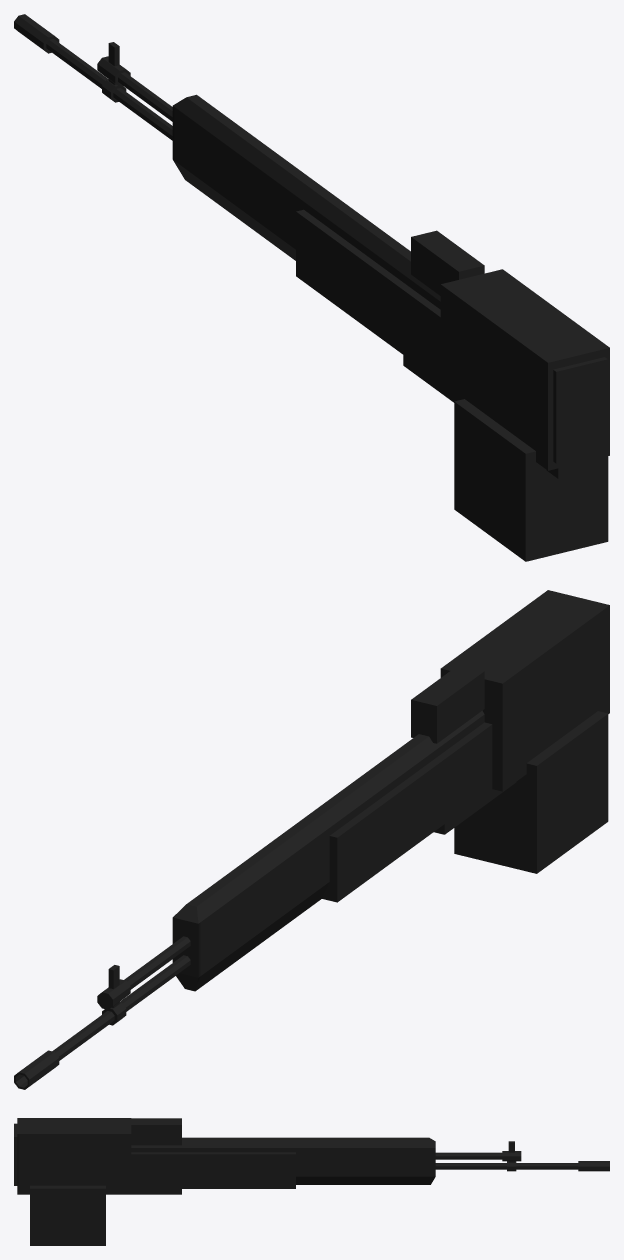
File: MainWeapon.fbx
3 renders of one model, top to bottom at view 1: azimuth 30°, elevation 25°; view 2: azimuth 150°, elevation 25°; view 3: azimuth 270°, elevation 25°, orthographic. The views are drawn at different scales.
Parts seen in each view (by area): view 1: mesh_1, 총열덮개, mesh_3, mesh, mesh_5, mesh_4, 아래 총열, mesh_2, 위 총열, 총구; view 2: mesh_1, 총열덮개, mesh_3, mesh, mesh_4, mesh_2, 아래 총열, 위 총열, 총구; view 3: 총열덮개, mesh_1, mesh, mesh_3, mesh_4, mesh_2, 아래 총열, 위 총열, 총구, mesh_5, 가조기.
Boxes of the visible parts, x1,y1,x2,y2 form: mesh_1: (440, 269, 609, 470); 총열덮개: (172, 94, 440, 309); mesh_3: (454, 399, 608, 561); mesh: (296, 209, 440, 381); mesh_5: (553, 357, 607, 463); mesh_4: (411, 230, 484, 295); 아래 총열: (46, 39, 172, 140); mesh_2: (403, 336, 599, 478); 위 총열: (118, 72, 172, 121); 총구: (14, 14, 59, 53); mesh_1: (440, 590, 609, 791); 총열덮개: (172, 710, 484, 991); mesh_3: (454, 711, 608, 873); mesh: (322, 722, 492, 902); mesh_4: (411, 665, 484, 743); mesh_2: (434, 736, 516, 834); 아래 총열: (52, 955, 190, 1060); 위 총열: (124, 936, 190, 989); 총구: (14, 1050, 59, 1089); 총열덮개: (131, 1137, 435, 1184); mesh_1: (17, 1118, 131, 1191); mesh: (131, 1152, 295, 1188); mesh_3: (30, 1185, 105, 1245); mesh_4: (131, 1118, 181, 1145); mesh_2: (17, 1160, 181, 1194); 아래 총열: (435, 1163, 578, 1169); 위 총열: (435, 1152, 502, 1159); 총구: (578, 1161, 609, 1171); mesh_5: (14, 1123, 17, 1185); 가조기: (502, 1151, 521, 1161).
Bounding box in the file's own units: 50 × 123 × 588.
Materials: 1 (1 with a texture image).
